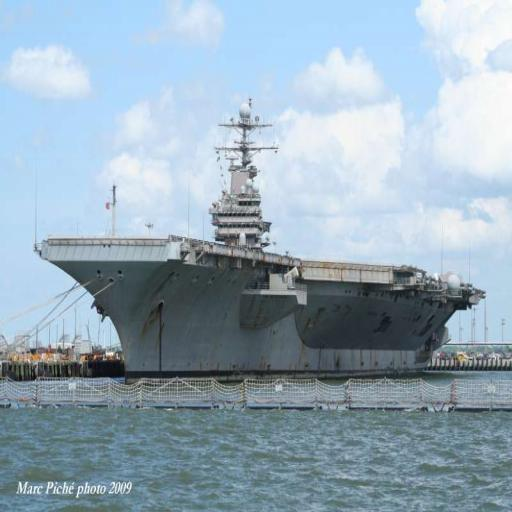Portanaves: (39, 91, 490, 387)
